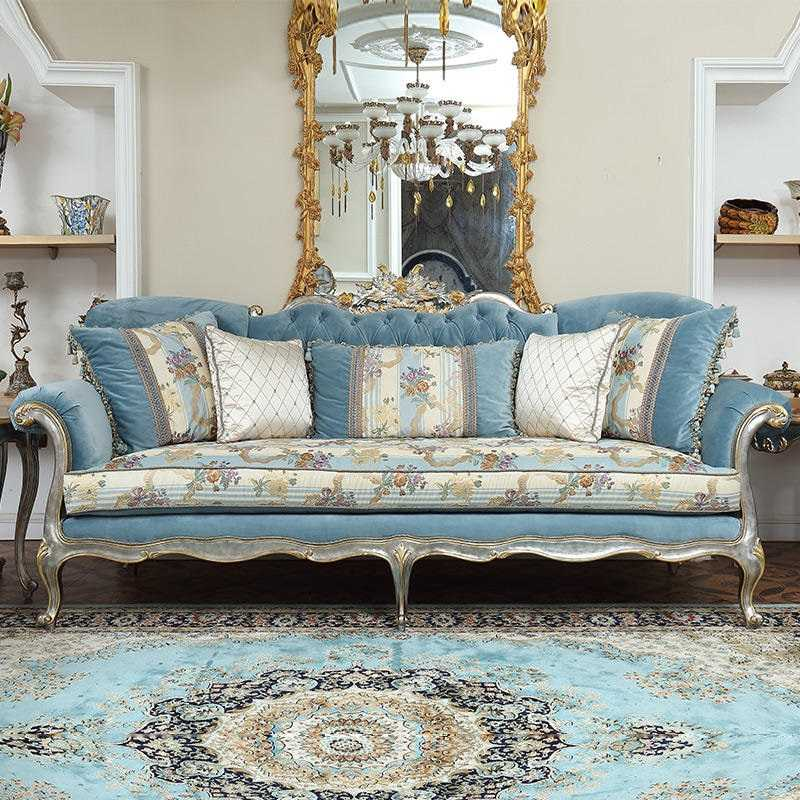3seatersofa: (13, 293, 785, 623), (390, 545, 409, 612)
backrest: (86, 292, 708, 345)
base: (63, 512, 752, 545)
leftarmrest: (701, 378, 787, 522)
leg: (36, 532, 764, 624)
pillow: (72, 309, 732, 455)
rightarmrest: (10, 372, 112, 538)
seat: (63, 438, 743, 516)
